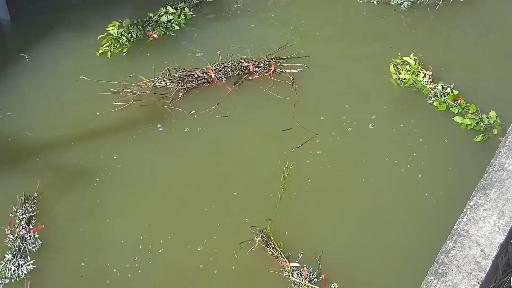twig: (52, 32, 314, 141), (386, 40, 512, 153), (255, 163, 347, 288), (96, 0, 223, 65), (0, 177, 54, 288), (357, 0, 473, 6)
